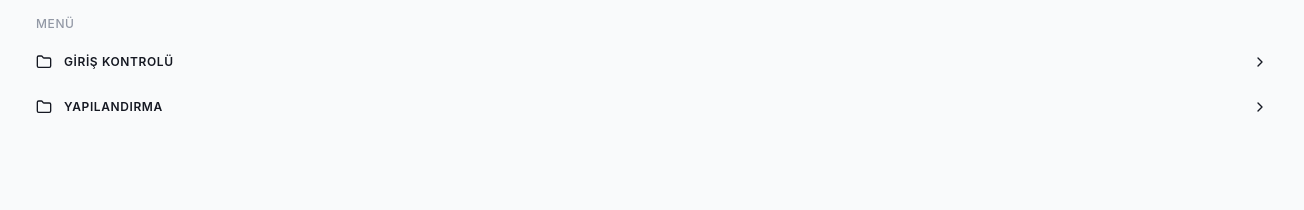
Test: SideMenu › unfolds a section to show its pages, and folds it again
Click the button "Giriş Kontrolü" at {"x": 119, "y": 62}, box [12, 40, 1292, 84]
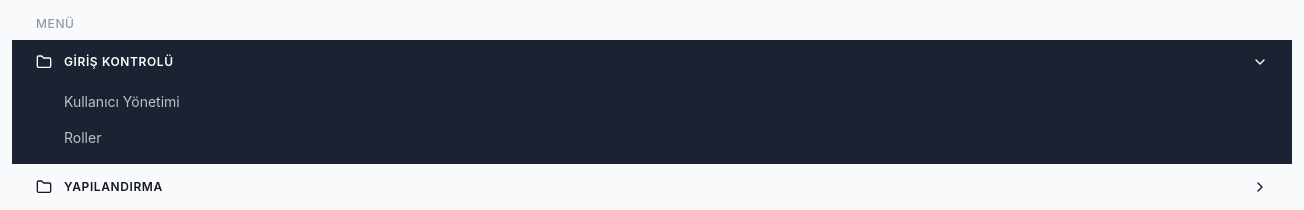
Expected: the button "Giriş Kontrolü" is expanded
Expected: the link "Roller" is shown, [64, 129, 101, 146]
Click the button "Giriş Kontrolü" at {"x": 119, "y": 62}, box [12, 40, 1292, 84]
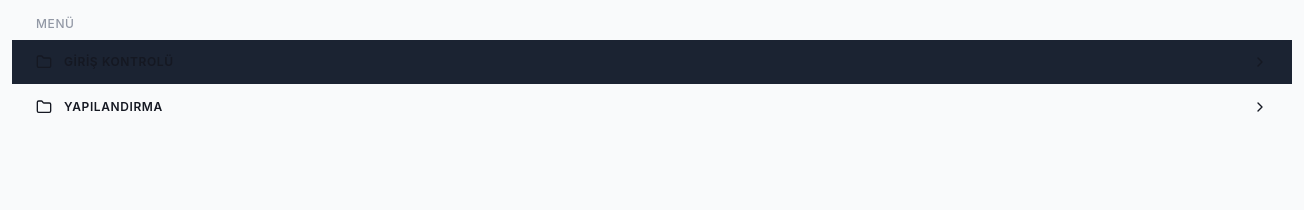
Expected: the link "Roller" is gone
